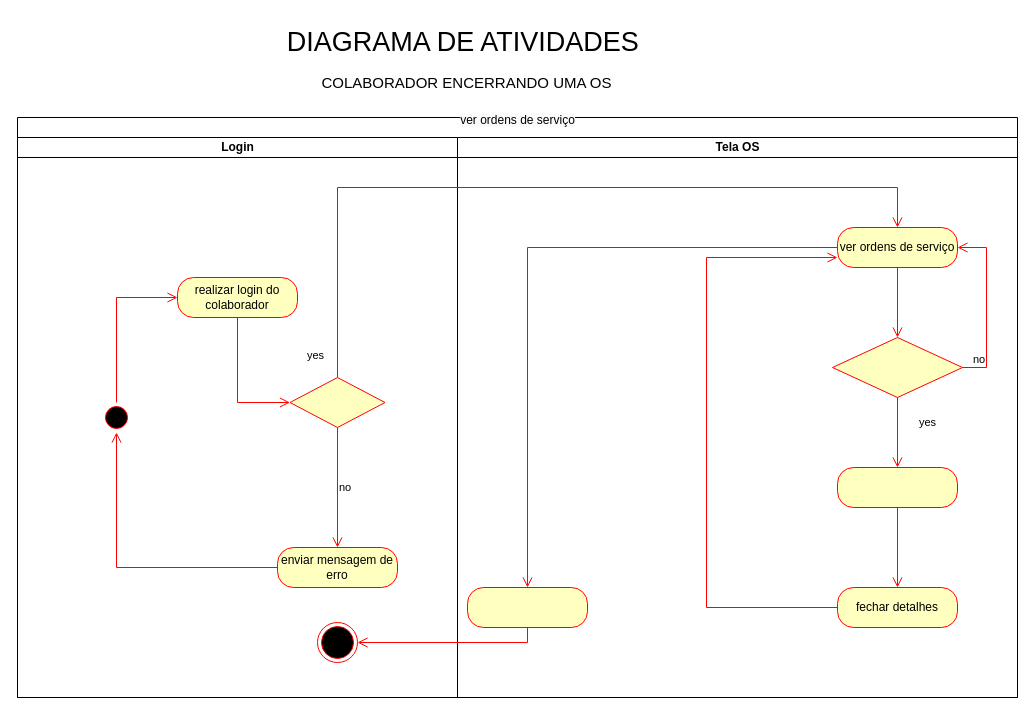
The diagram is 1035 pixels wide and 715 high, and some of its shapes have lost their labels. The centre of each missing label's shape, as x and y in pixels:
clicar em detalhes: pixel 897 367
sair: pixel 527 607
validar dados: pixel 337 402
ver comentarios: pixel 897 487
